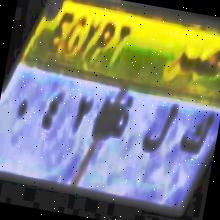0: (15, 94, 30, 122)
2: (70, 88, 96, 138)
4: (39, 84, 64, 142)
kaaf: (176, 97, 215, 166)
laam: (140, 93, 182, 161)
noon: (107, 83, 137, 145)
